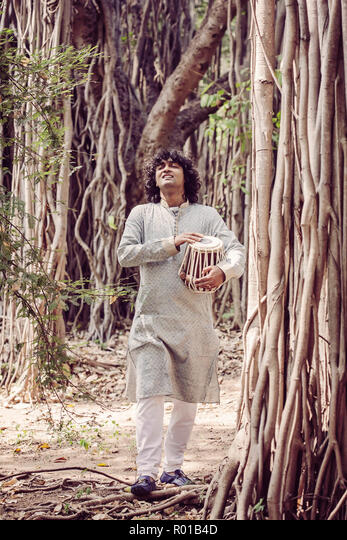tabla: (180, 236, 223, 293)
